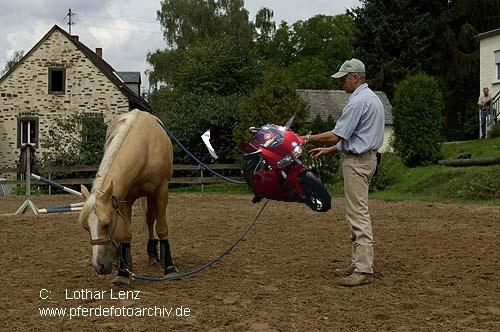tampered: (202, 116, 331, 212)
